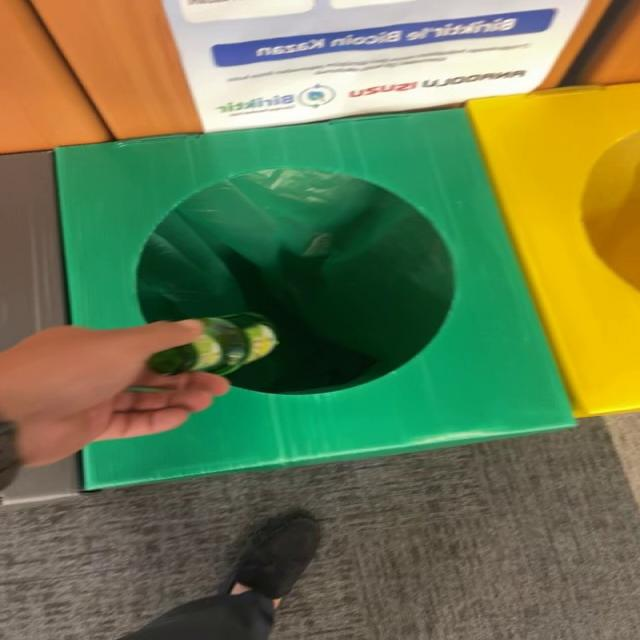glass: (147, 314, 277, 376)
